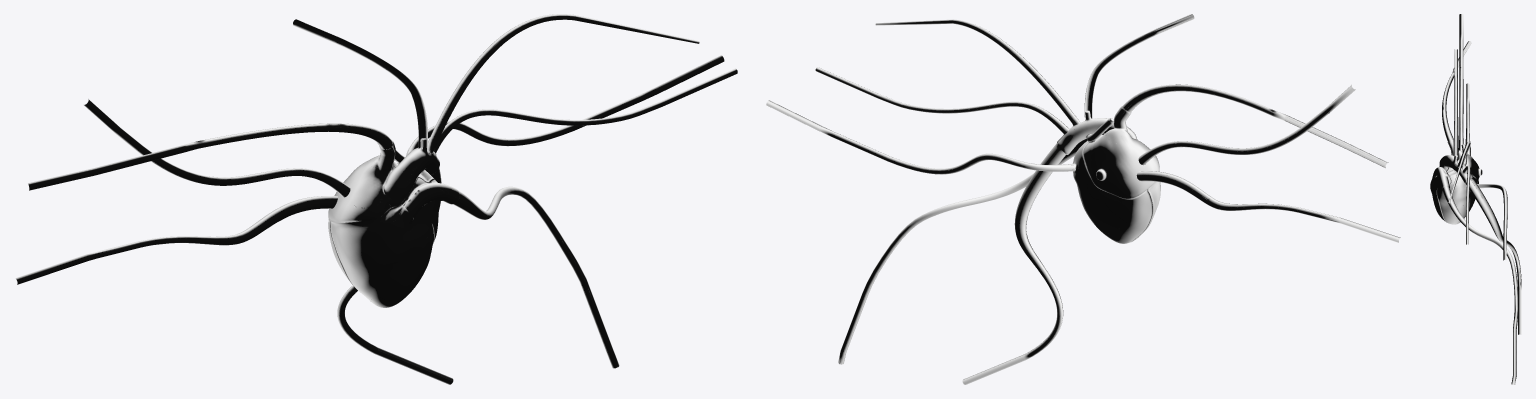
File: today2.glb
3 views of the same model, side by side, from view 1: azimuth 30°, elevation 25°; view 2: azimuth 150°, elevation 25°; view 3: azimuth 270°, elevation 25° (orthographic). The views are drawn at different scales.
Parts seen in each view (by area): view 1: Heart; view 2: Heart; view 3: Heart.
Boxes of the visible parts, box(x1,y1,x2,y2) form: Heart: box(15, 14, 737, 384); Heart: box(766, 14, 1400, 384); Heart: box(1430, 14, 1521, 384).
Bounding box in the file's own units: 35.63 × 22.01 × 7.48.
1 material, 1 textured.
